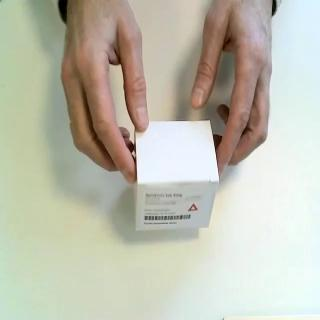apodorm5mg: (134, 118, 221, 232)
